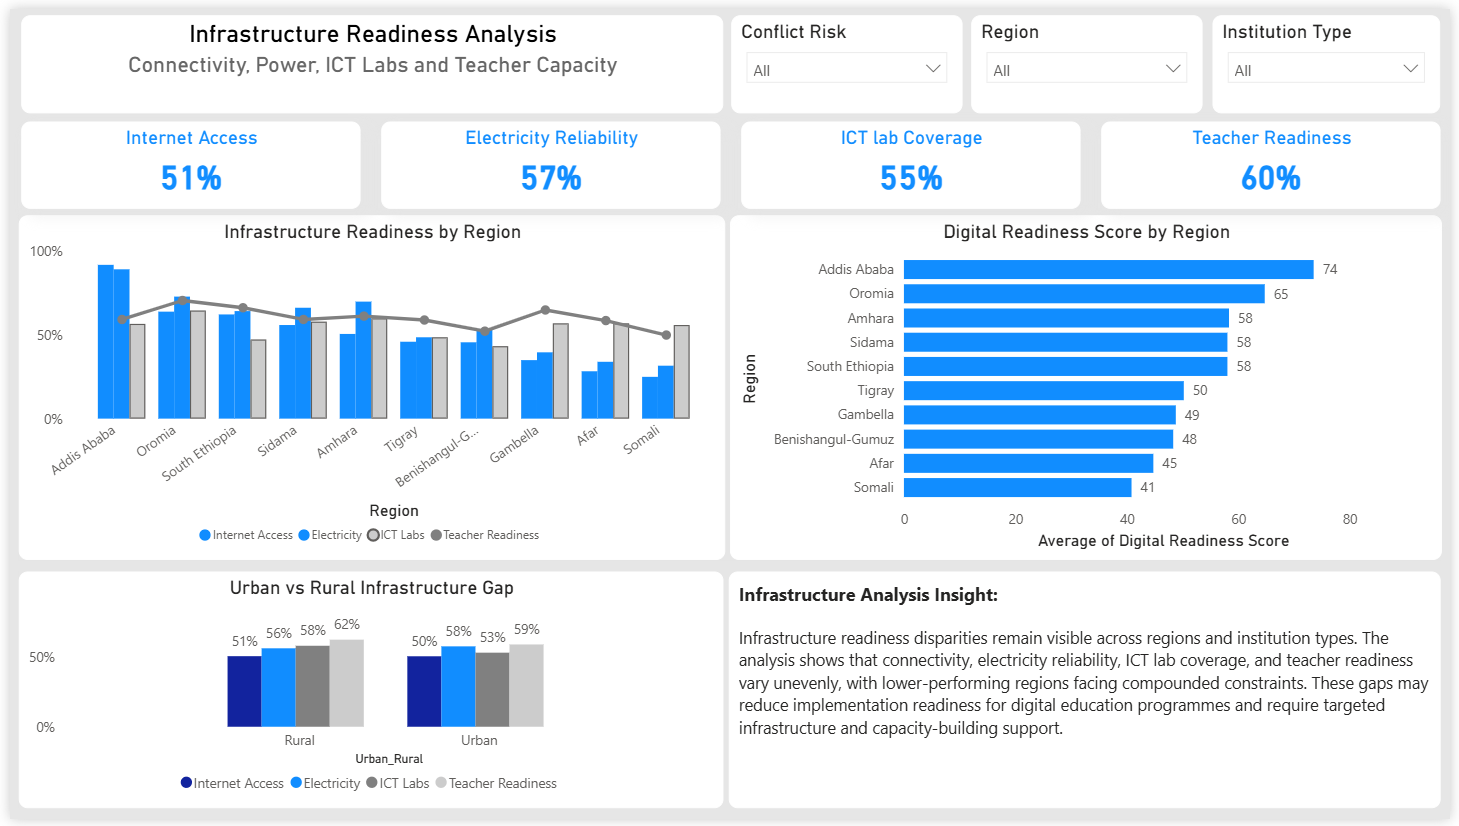

The dashboard page shown, as its layout file describes it:
{"tool":"powerbi","page":{"name":"Infrastructure Readiness","canvas":[1280,720],"ordinal":1},"visuals":[{"type":"textbox","title":"Infrastructure Readiness Analysis","box":[10,5,623.8,87.5],"z":0},{"type":"lineClusteredColumnComboChart","title":"Infrastructure Readiness by Region","fields":{"Category":["education_readiness.Region"],"Y":["education_readiness.Avg Internet Access %","education_readiness.Avg Electricity %","education_readiness.Avg ICT Lab %"],"Y2":["education_readiness.Avg Teacher Readiness %"]},"box":[7.5,183.8,627.8,306.2],"z":0,"group":"g2"},{"type":"clusteredColumnChart","title":"Urban vs Rural Infrastructure Gap","fields":{"Category":["education_readiness.Urban_Rural"],"Y":["education_readiness.Avg Internet Access %","education_readiness.Avg Electricity %","education_readiness.Avg ICT Lab %","education_readiness.Avg Teacher Readiness %"]},"box":[7.5,500,626.2,210],"z":0,"group":"g4"},{"type":"group","id":"g1","title":"Group 3","box":[641.2,5,630,87.5],"z":1000},{"type":"clusteredBarChart","title":"Digital Readiness Score by Region","fields":{"Category":["education_readiness.Region"],"Y":["Avg(education_readiness.Digital Readiness Score)"]},"box":[639.7,183.8,632.8,306.2],"z":1000,"group":"g2"},{"type":"textbox","box":[638.7,500,632.5,210],"z":1000,"group":"g4"},{"type":"card","title":"Internet Access","fields":{"Values":["education_readiness.Avg Internet Access %"]},"box":[10,100.3,301.7,77.5],"z":2000,"group":"g3"},{"type":"group","id":"g2","title":"Group 2","box":[7.5,183.8,1265,306.2],"z":2000},{"type":"slicer","title":"Region","fields":{"Values":["education_readiness.Region"]},"box":[855,5,205.9,87.5],"z":3000,"group":"g1"},{"type":"group","id":"g3","title":"Group 1","box":[10,100.3,1261.2,77.5],"z":3000},{"type":"card","title":"Electricity Reliability","fields":{"Values":["education_readiness.Avg Electricity %"]},"box":[329.8,100.3,301.7,77.5],"z":3000,"group":"g3"},{"type":"slicer","title":"Institution Type ","fields":{"Values":["education_readiness.Institution_Type"]},"box":[1068.7,5,202.5,87.5],"z":4000,"group":"g1"},{"type":"card","title":"ICT lab Coverage","fields":{"Values":["education_readiness.Avg ICT Lab %"]},"box":[649.7,100.3,301.7,77.5],"z":4000,"group":"g3"},{"type":"group","id":"g4","title":"Group 4","box":[7.5,500,1263.8,210],"z":4002},{"type":"card","title":"Teacher Readiness","fields":{"Values":["education_readiness.Avg Teacher Readiness %"]},"box":[969.5,100.3,301.7,77.5],"z":5000,"group":"g3"},{"type":"slicer","title":"Conflict Risk","fields":{"Values":["education_readiness.Conflict_Risk"]},"box":[641.2,5,205.9,87.5],"z":6001,"group":"g1"}]}

Visuals, with their boxes in screenshot pixels (x1, y1, x2, y2), scaled from the page's 1280x720 canvas onto the 1459x826 screenshot:
"Infrastructure Readiness Analysis" textbox: <box>11,6,722,106</box>
"Infrastructure Readiness by Region" lineClusteredColumnComboChart: <box>9,211,724,562</box>
"Urban vs Rural Infrastructure Gap" clusteredColumnChart: <box>9,574,722,815</box>
"Group 3" group: <box>731,6,1449,106</box>
"Digital Readiness Score by Region" clusteredBarChart: <box>729,211,1450,562</box>
textbox: <box>728,574,1449,815</box>
"Internet Access" card: <box>11,115,355,204</box>
"Group 2" group: <box>9,211,1450,562</box>
"Region" slicer: <box>975,6,1209,106</box>
"Group 1" group: <box>11,115,1449,204</box>
"Electricity Reliability" card: <box>376,115,720,204</box>
"Institution Type " slicer: <box>1218,6,1449,106</box>
"ICT lab Coverage" card: <box>741,115,1084,204</box>
"Group 4" group: <box>9,574,1449,815</box>
"Teacher Readiness" card: <box>1105,115,1449,204</box>
"Conflict Risk" slicer: <box>731,6,966,106</box>
